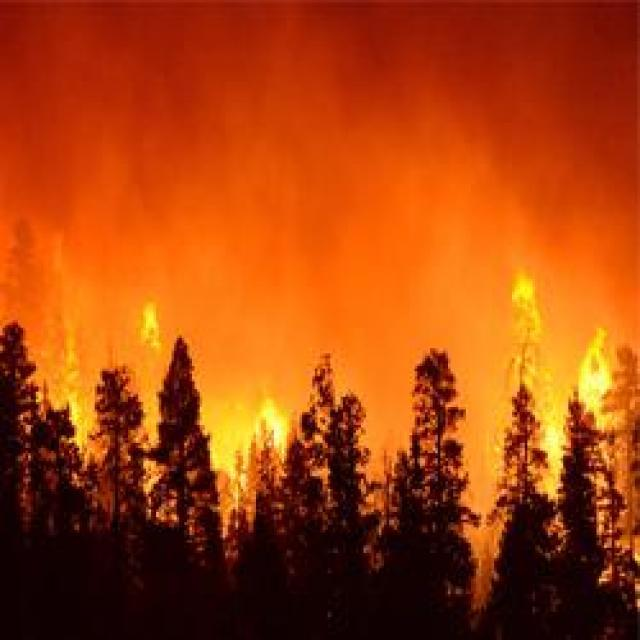Fire: (32, 338, 121, 464), (504, 259, 566, 354), (251, 396, 316, 470), (575, 339, 623, 439), (528, 424, 580, 477), (130, 296, 168, 360)
Smoke: (0, 2, 616, 426)
